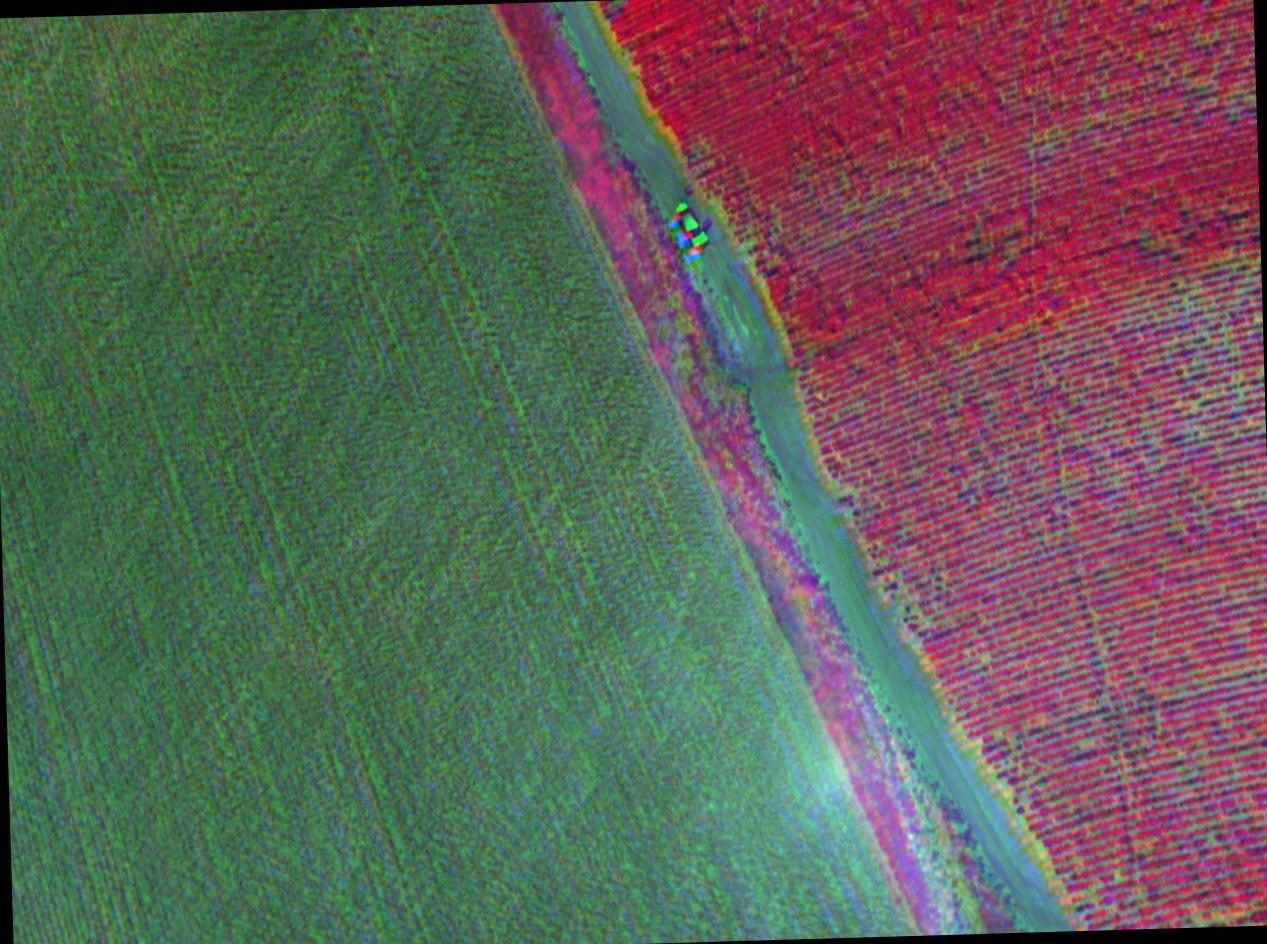dc: (836, 463, 940, 569), (1161, 265, 1263, 360), (978, 713, 1065, 819), (1186, 378, 1267, 454)
